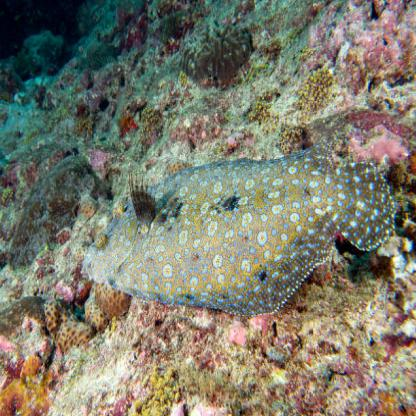flounder: (75, 134, 403, 317)
